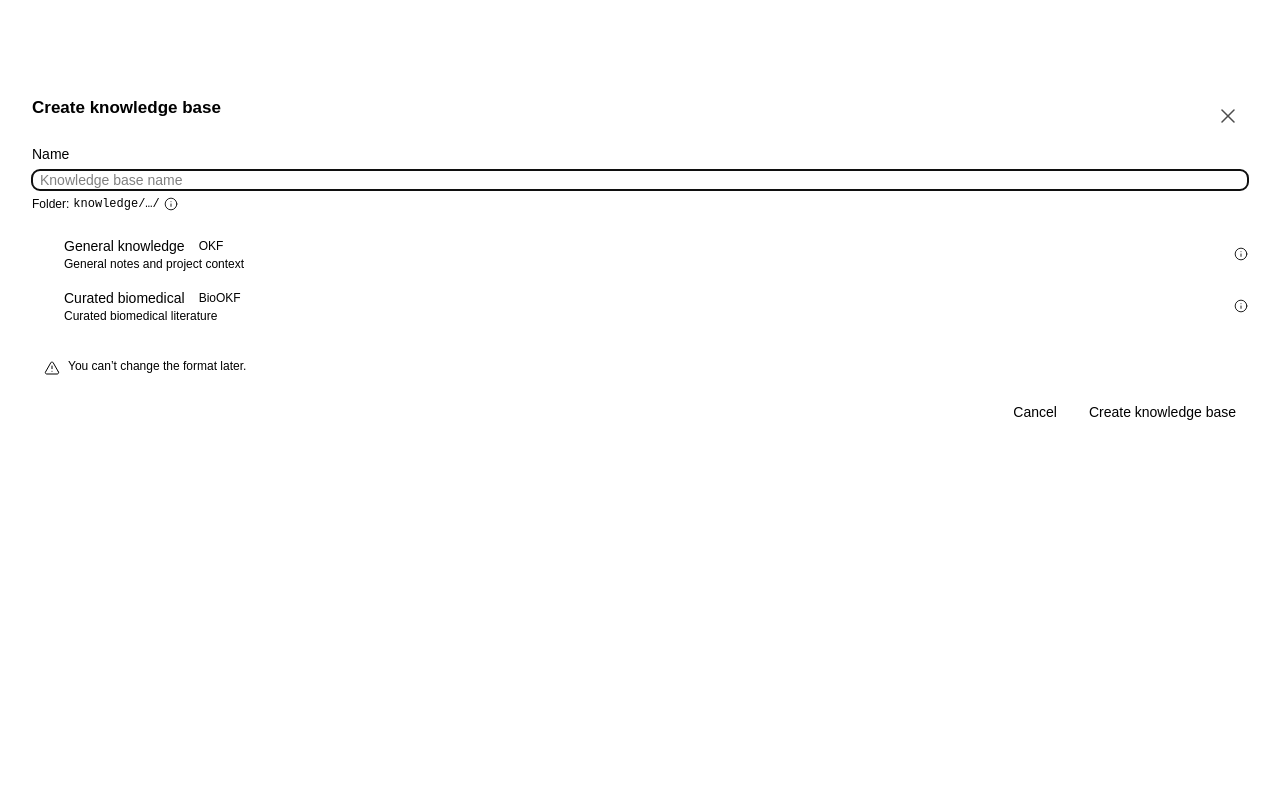
Test: KbFormatChooser, a name that cannot be used › says it on the field, takes the folder line’s place, and moves focus to the field
Focus is on the button, as it is after a click on Create.
What coordinates should you click on to do the following:
click the button with test id "knowledge-format-submit"
I would click on:
 (1162, 412)
Its box is [1077,402,1248,422].
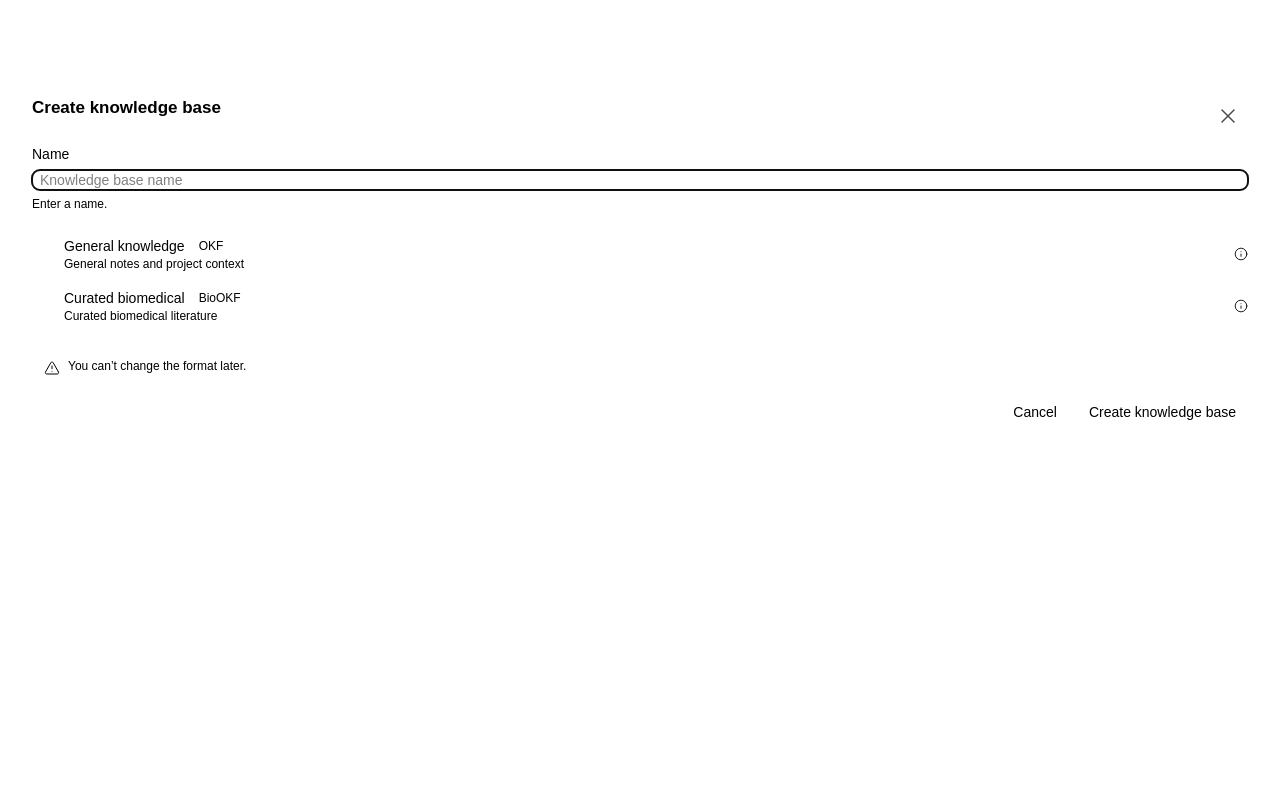
Result: the message reads "Enter a name." at [32,197,107,211]
Result: the text "knowledge/" is gone
Result: the number of messages is 1 at [32,197,107,211]
